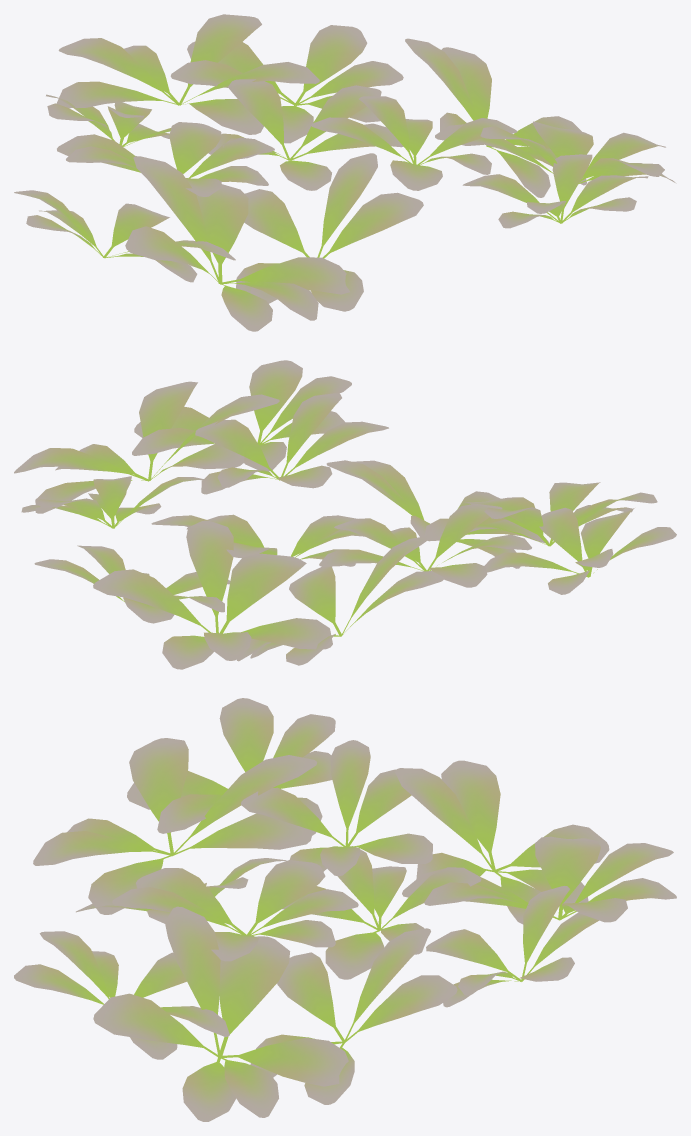
Rendered from SM_plantpack_A_LOD0.FBX.
3 views of the same model, one above another, from view 1: azimuth 30°, elevation 25°; view 2: azimuth 150°, elevation 25°; view 3: azimuth 270°, elevation 25° (orthographic). The views are drawn at different scales.
Visible parts, largest first — view 1: SM_plantpack_A_LOD0; view 2: SM_plantpack_A_LOD0; view 3: SM_plantpack_A_LOD0.
Part boxes in pixels (x1=…): SM_plantpack_A_LOD0: x1=14, y1=14, x2=676, y2=331; SM_plantpack_A_LOD0: x1=14, y1=360, x2=676, y2=669; SM_plantpack_A_LOD0: x1=14, y1=698, x2=676, y2=1121.
Size of the model in its own units: 386 by 66.22 by 327.
Materials: 1 (1 with a texture image).
